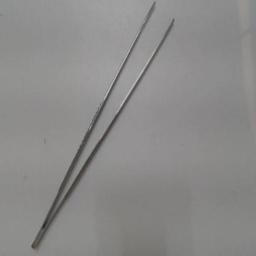DeBakey Dissector: (27, 0, 187, 254)
